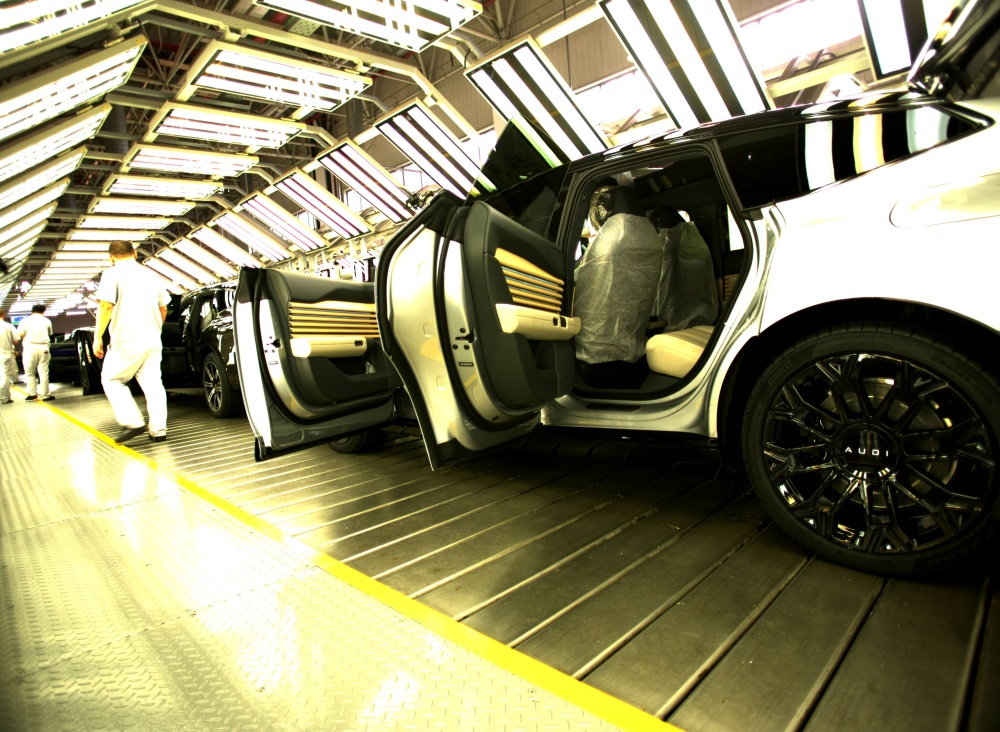armrest_color: (493, 301, 584, 342), (295, 338, 372, 358)
panel_color: (491, 243, 566, 313), (288, 296, 375, 331)
